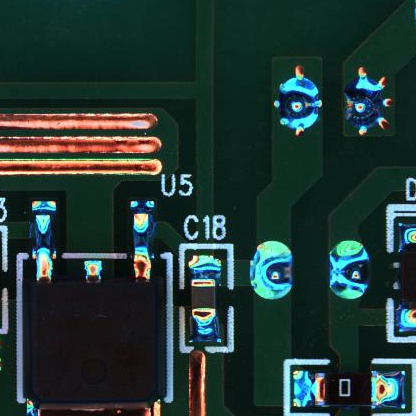spot: (340, 67, 393, 136), (275, 67, 323, 137), (250, 238, 293, 303), (328, 239, 371, 302)
